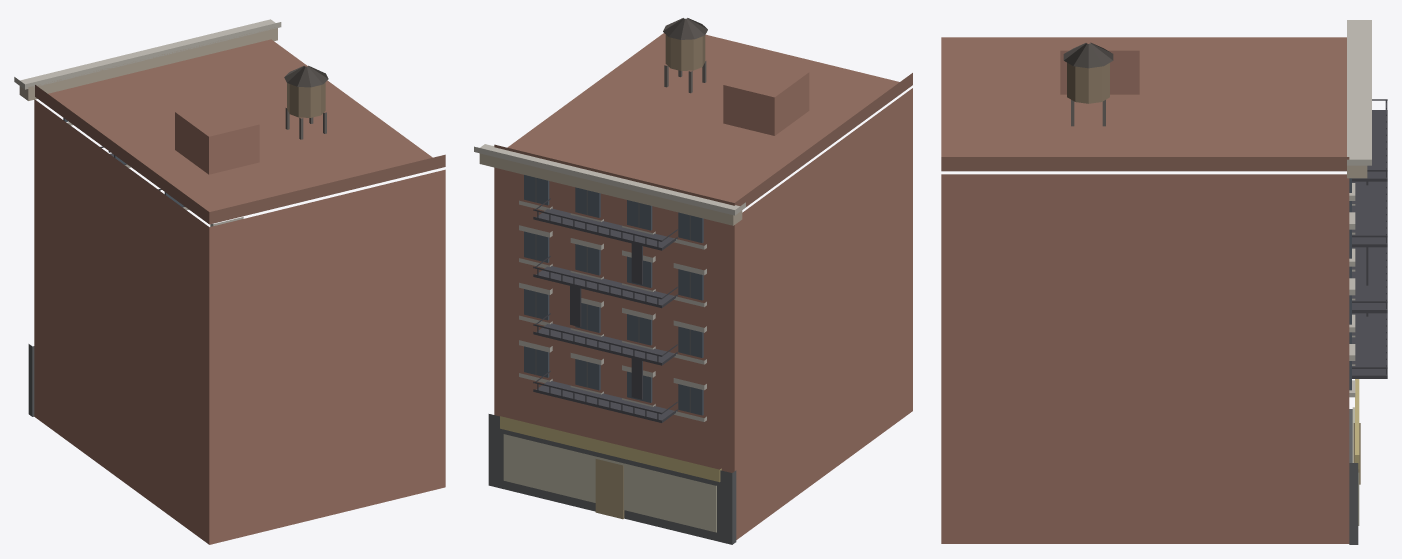
Rendered from building_tenement.glb.
3 renders of one model, left to right at view 1: azimuth 30°, elevation 25°; view 2: azimuth 150°, elevation 25°; view 3: azimuth 270°, elevation 25°, orthographic. The views are drawn at different scales.
Parts seen in each view (by area): view 1: Mesh; view 2: Mesh; view 3: Mesh.
Boxes of the visible parts, left/top/right/bottom form: Mesh: left=14, top=19, right=445, bottom=544; Mesh: left=474, top=18, right=912, bottom=544; Mesh: left=941, top=20, right=1387, bottom=544.
Size of the model in its own units: 15.2 by 22.3 by 19.7.
